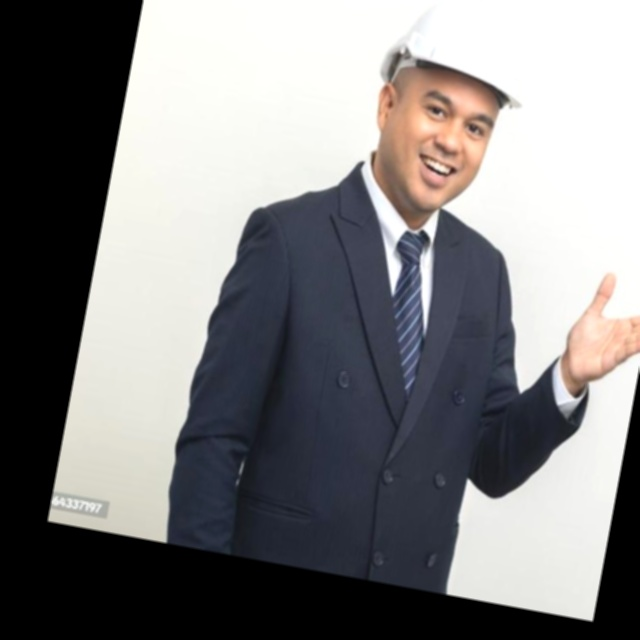Con_Casco: (356, 0, 540, 218)
Sin_Chaleco: (189, 171, 521, 594)
